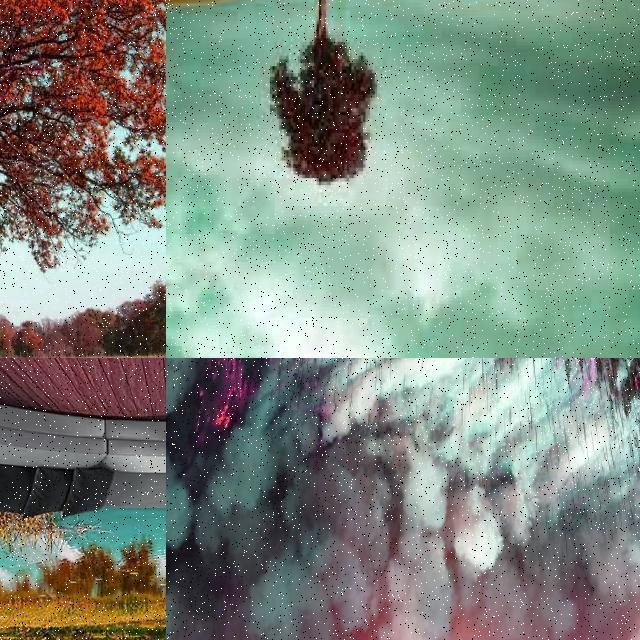tree: (0, 0, 166, 358), (264, 0, 376, 184), (312, 358, 338, 390), (166, 358, 180, 414), (395, 358, 407, 384), (513, 358, 523, 388), (564, 358, 576, 378), (430, 358, 442, 378), (564, 358, 572, 387), (529, 358, 539, 378), (208, 358, 220, 374), (367, 358, 377, 376), (257, 358, 267, 374), (586, 358, 594, 378), (386, 358, 394, 378), (397, 358, 405, 378), (429, 358, 438, 370), (408, 358, 417, 369), (431, 358, 439, 370), (438, 358, 446, 370), (400, 358, 408, 370), (210, 358, 218, 367), (385, 358, 391, 368), (388, 358, 392, 368)
